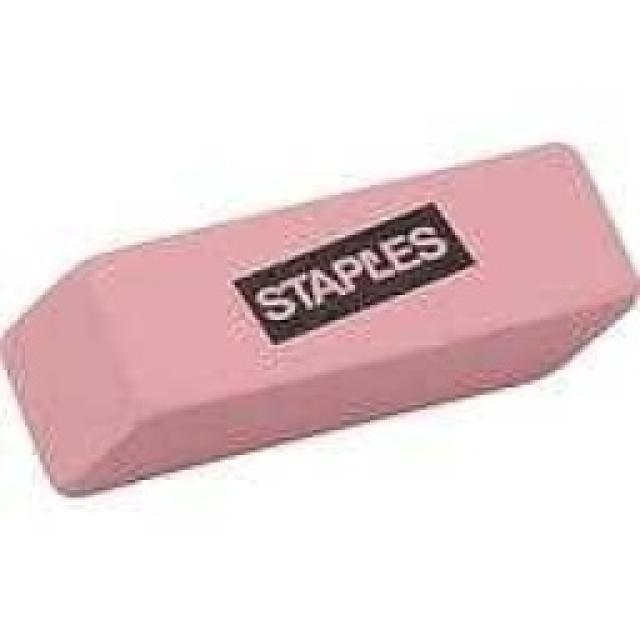Silgi: (4, 142, 637, 497)
